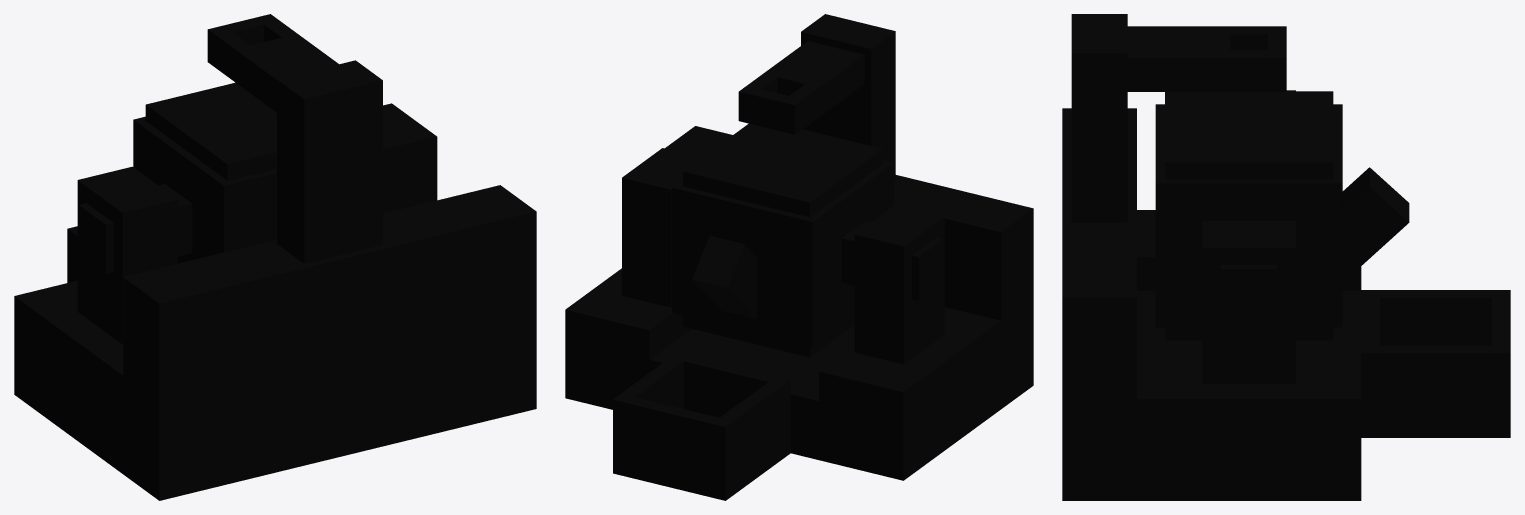
File: arc_furnace.obj
The picture shows the model from 3 angles, left to right: view 1: azimuth 30°, elevation 25°; view 2: azimuth 150°, elevation 25°; view 3: azimuth 270°, elevation 25°; orthographic projection. The views are drawn at different scales.
Visible parts, largest first — view 1: electrode_supporter, base, furnace; view 2: base, furnace, electrode_supporter; view 3: base, electrode_supporter, furnace.
Part boxes in pixels (left/top/right/bottom): electrode_supporter: left=123, top=14, right=536, bottom=500; base: left=14, top=103, right=437, bottom=473; furnace: left=78, top=82, right=276, bottom=274; base: left=565, top=148, right=1001, bottom=500; furnace: left=672, top=123, right=943, bottom=357; electrode_supporter: left=665, top=14, right=1033, bottom=408; base: left=1137, top=90, right=1510, bottom=500; electrode_supporter: left=1062, top=14, right=1286, bottom=500; furnace: left=1155, top=91, right=1409, bottom=340.
Size of the model in its own units: 3 by 2.75 by 3.
